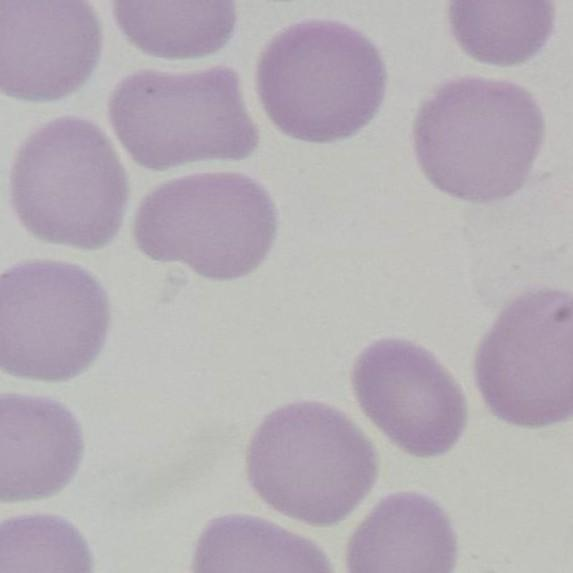Uninfected: (416, 73, 542, 201), (14, 115, 135, 246), (251, 400, 380, 522), (135, 174, 276, 283), (258, 20, 384, 140), (474, 290, 573, 429), (114, 70, 258, 165), (0, 265, 109, 382), (354, 340, 466, 452), (0, 0, 101, 100), (350, 493, 460, 573), (0, 395, 84, 499)
